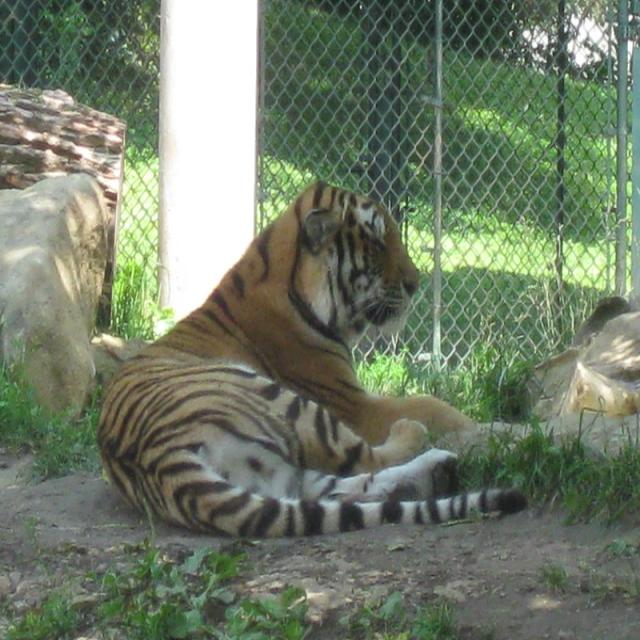Tiger: (96, 179, 526, 538)
